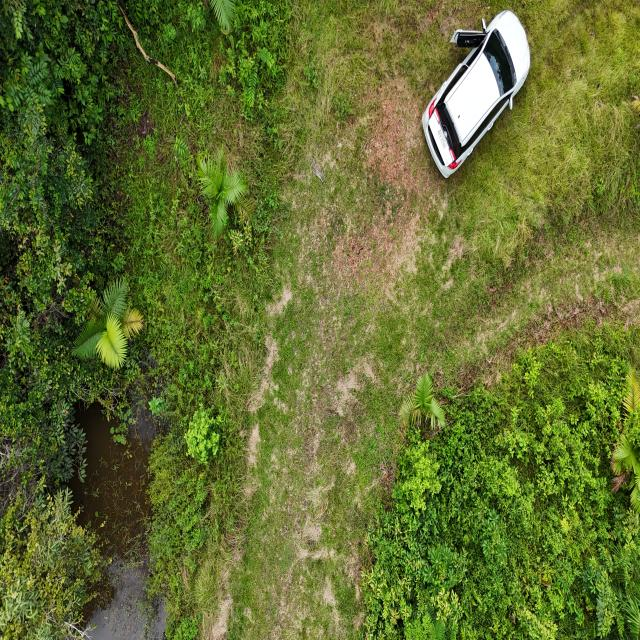vegetation: (358, 330, 639, 638)
